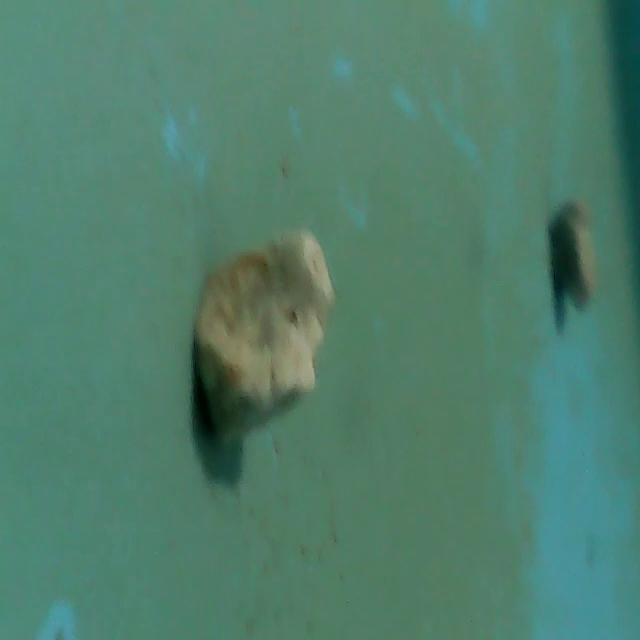rock: (189, 229, 342, 439), (547, 202, 605, 316)
